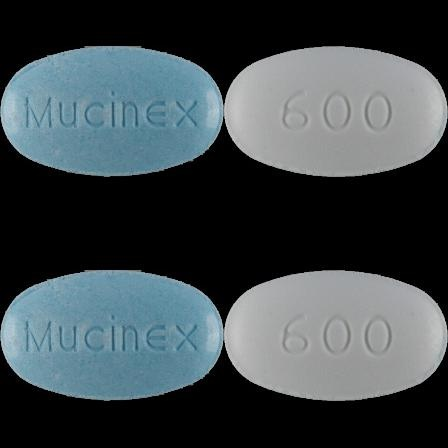55154-7776: (0, 0, 224, 224)
